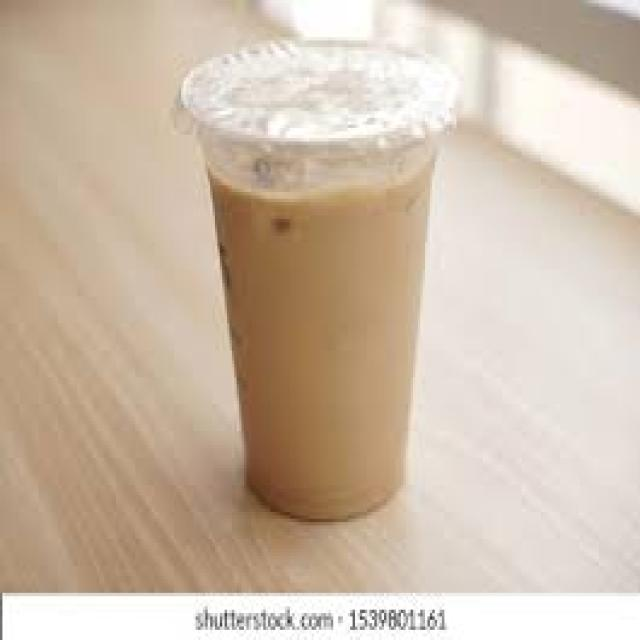bottle: (180, 42, 455, 519)
